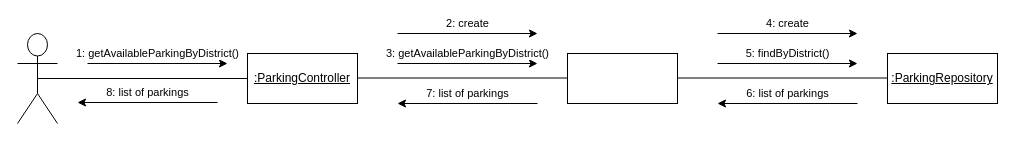
The diagram is 1015 pixels wide and 162 high, and some of its shapes have lost their labels. The centre of each missing label's shape, as x and y in pixels:
:ParkingService: the point at 622,78
Actor: the point at 37,78
